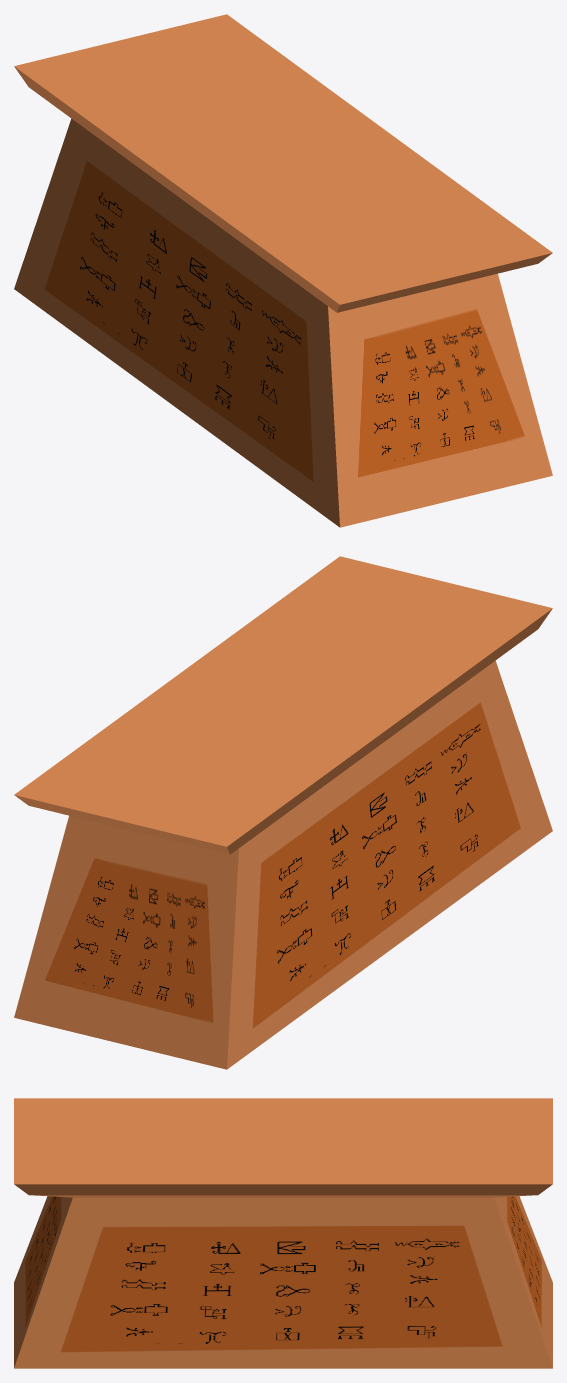
File: suporte.obj
3 renders of one model, top to bottom at view 1: azimuth 30°, elevation 25°; view 2: azimuth 150°, elevation 25°; view 3: azimuth 270°, elevation 25°, orthographic. The views are drawn at different scales.
Size of the model in its own units: 2 by 2 by 5.3.
